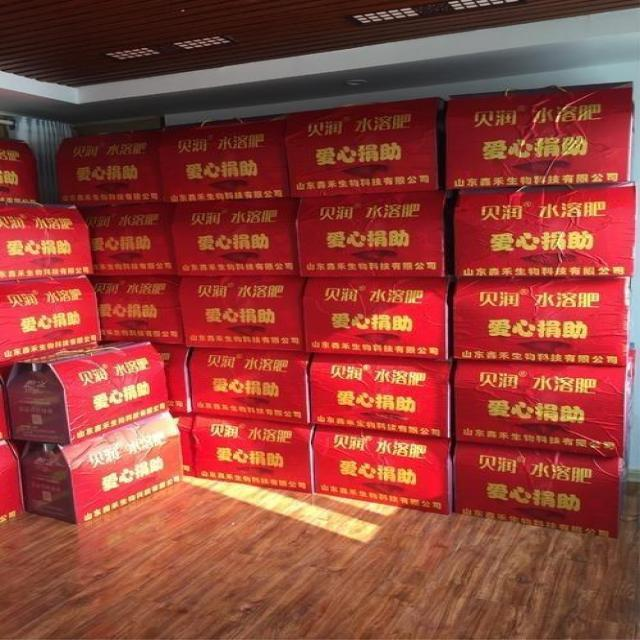box: (444, 77, 638, 185), (451, 358, 638, 460), (21, 416, 188, 526), (452, 443, 638, 541), (450, 182, 640, 277), (2, 340, 170, 445), (450, 276, 640, 367), (290, 96, 450, 196), (309, 421, 462, 517), (289, 193, 452, 277), (310, 357, 468, 440), (302, 278, 463, 359), (162, 111, 292, 201), (186, 342, 316, 430), (192, 406, 322, 492), (180, 277, 314, 355), (0, 278, 101, 372), (174, 202, 302, 276), (48, 133, 170, 200), (82, 206, 178, 278), (0, 210, 96, 282), (95, 274, 184, 344)
